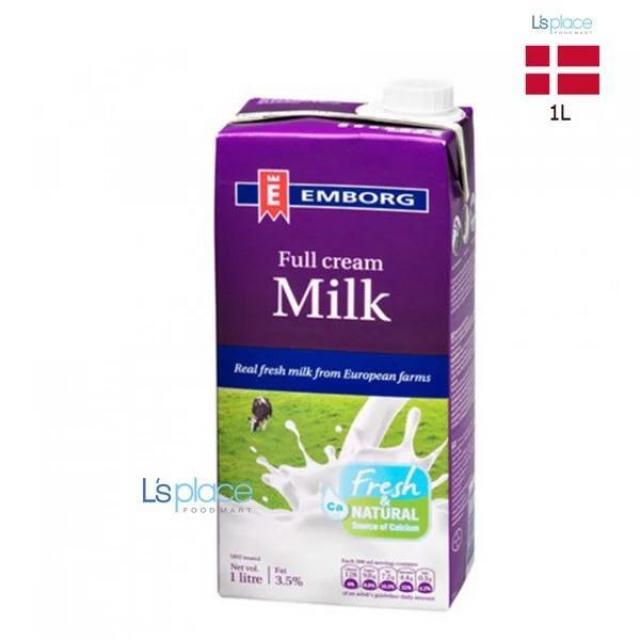non_white_jug: (184, 73, 474, 604)
